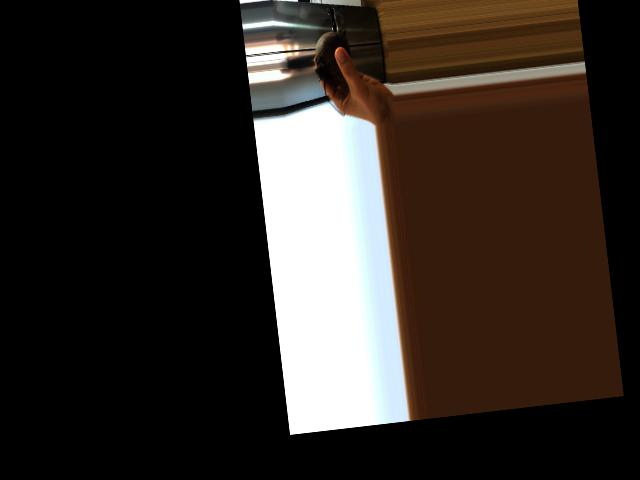beet: (310, 21, 357, 118)
